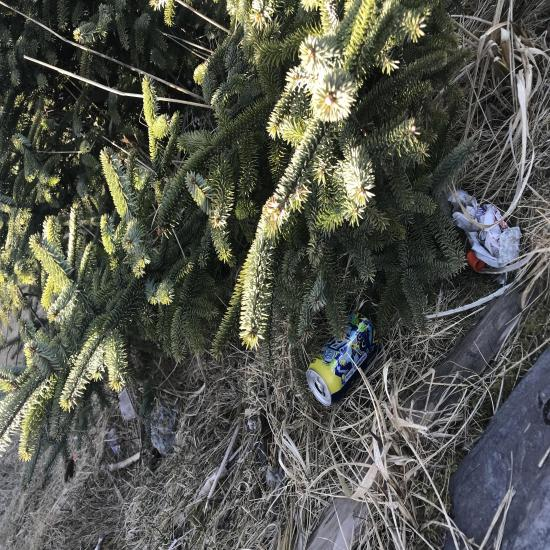Cigarette: (138, 197, 144, 202)
Other plastic: (143, 239, 185, 300)
